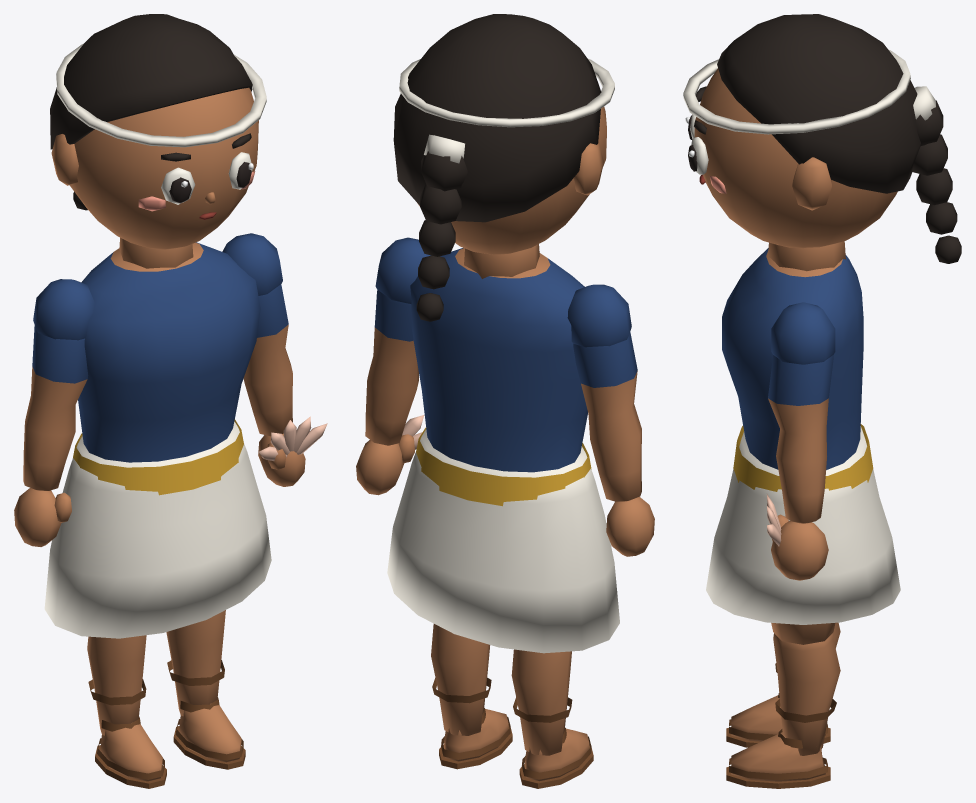
Rendered from seefahrerin.glb.
The picture shows the model from 3 angles, left to right: view 1: azimuth 30°, elevation 25°; view 2: azimuth 150°, elevation 25°; view 3: azimuth 270°, elevation 25°; orthographic projection. The views are drawn at different scales.
Parts seen in each view (by area): view 1: rumpf, huefte, kopf, haare, armL, armR, knieL, knieR, kopfschmuck, itemR, augeL, augeR; view 2: haare, rumpf, huefte, armL, armR, knieL, knieR, kopf, kopfschmuck; view 3: haare, huefte, rumpf, kopf, armR, knieR, kopfschmuck, knieL, beinR, augeR.
Boxes of the visible parts, box(x1,y1,x2,y2) form: rumpf: box(73, 242, 260, 495); huefte: box(44, 421, 271, 638); kopf: box(51, 87, 258, 268); haare: box(50, 14, 252, 210); armL: box(14, 279, 94, 546); armR: box(222, 233, 305, 486); knieL: box(87, 635, 166, 788); knieR: box(166, 610, 245, 769); kopfschmuck: box(56, 44, 266, 147); itemR: box(258, 416, 327, 460); augeL: box(161, 167, 195, 204); augeR: box(228, 152, 253, 189); haare: box(393, 14, 601, 321); rumpf: box(410, 248, 591, 506); huefte: box(387, 429, 619, 653); armL: box(567, 284, 654, 556); armR: box(356, 237, 430, 495); knieL: box(511, 649, 593, 788); knieR: box(431, 624, 512, 769); kopf: box(417, 106, 606, 278); kopfschmuck: box(399, 59, 614, 127); haare: box(717, 14, 961, 263); huefte: box(706, 426, 900, 624); rumpf: box(722, 248, 873, 491); kopf: box(694, 68, 897, 271); armR: box(768, 302, 835, 580); knieR: box(726, 633, 840, 788); kopfschmuck: box(683, 49, 910, 134); knieL: box(726, 622, 840, 747); beinR: box(771, 623, 835, 644); augeR: box(688, 137, 708, 174).
Bounding box in the file's own units: 0.9673 × 2.29 × 0.7864.
